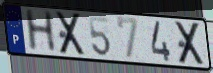4: (151, 20, 172, 63)
5: (87, 15, 113, 58)
7: (115, 15, 143, 61)
H: (23, 8, 59, 53)
X: (55, 11, 88, 57), (174, 20, 207, 66)
